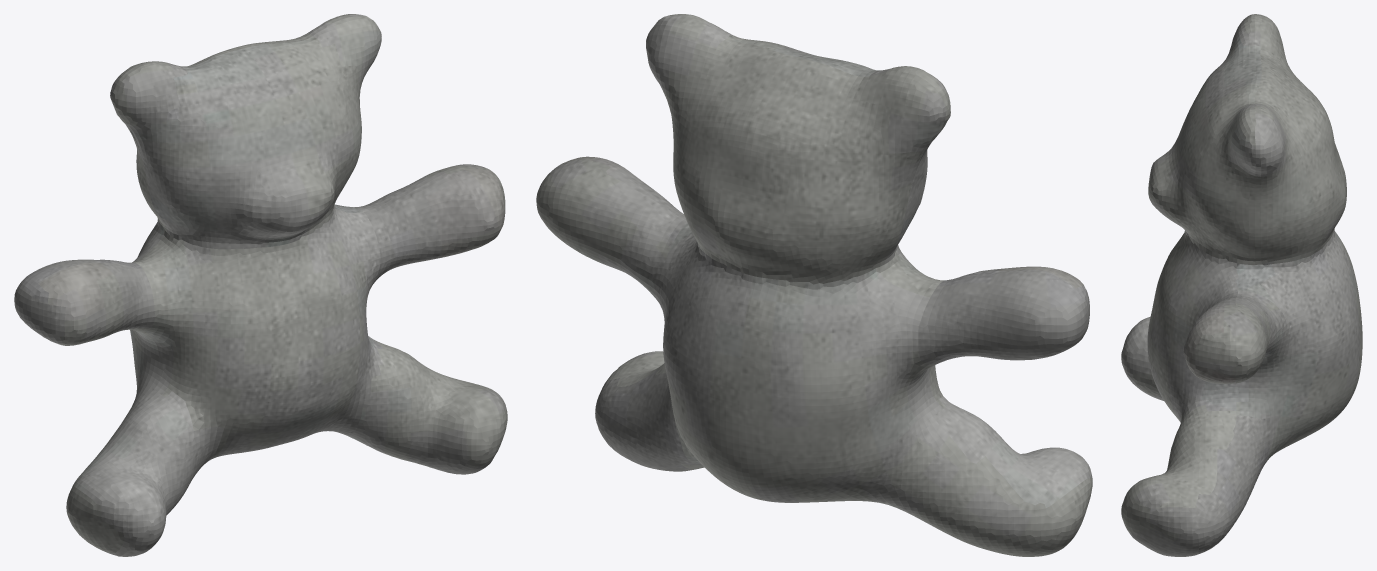
The model's file is teddybear.glb.
The picture shows the model from 3 angles, left to right: view 1: azimuth 30°, elevation 25°; view 2: azimuth 150°, elevation 25°; view 3: azimuth 270°, elevation 25°; orthographic projection. The views are drawn at different scales.
Visible parts, largest first — view 1: Sphere; view 2: Sphere; view 3: Sphere.
Boxes of the visible parts, bbox=[...] form: Sphere: bbox=[14, 14, 507, 556]; Sphere: bbox=[536, 14, 1092, 556]; Sphere: bbox=[1121, 14, 1362, 556].
Size of the model in its own units: 4.18 by 3.67 by 1.94.
1 material, 1 textured.
